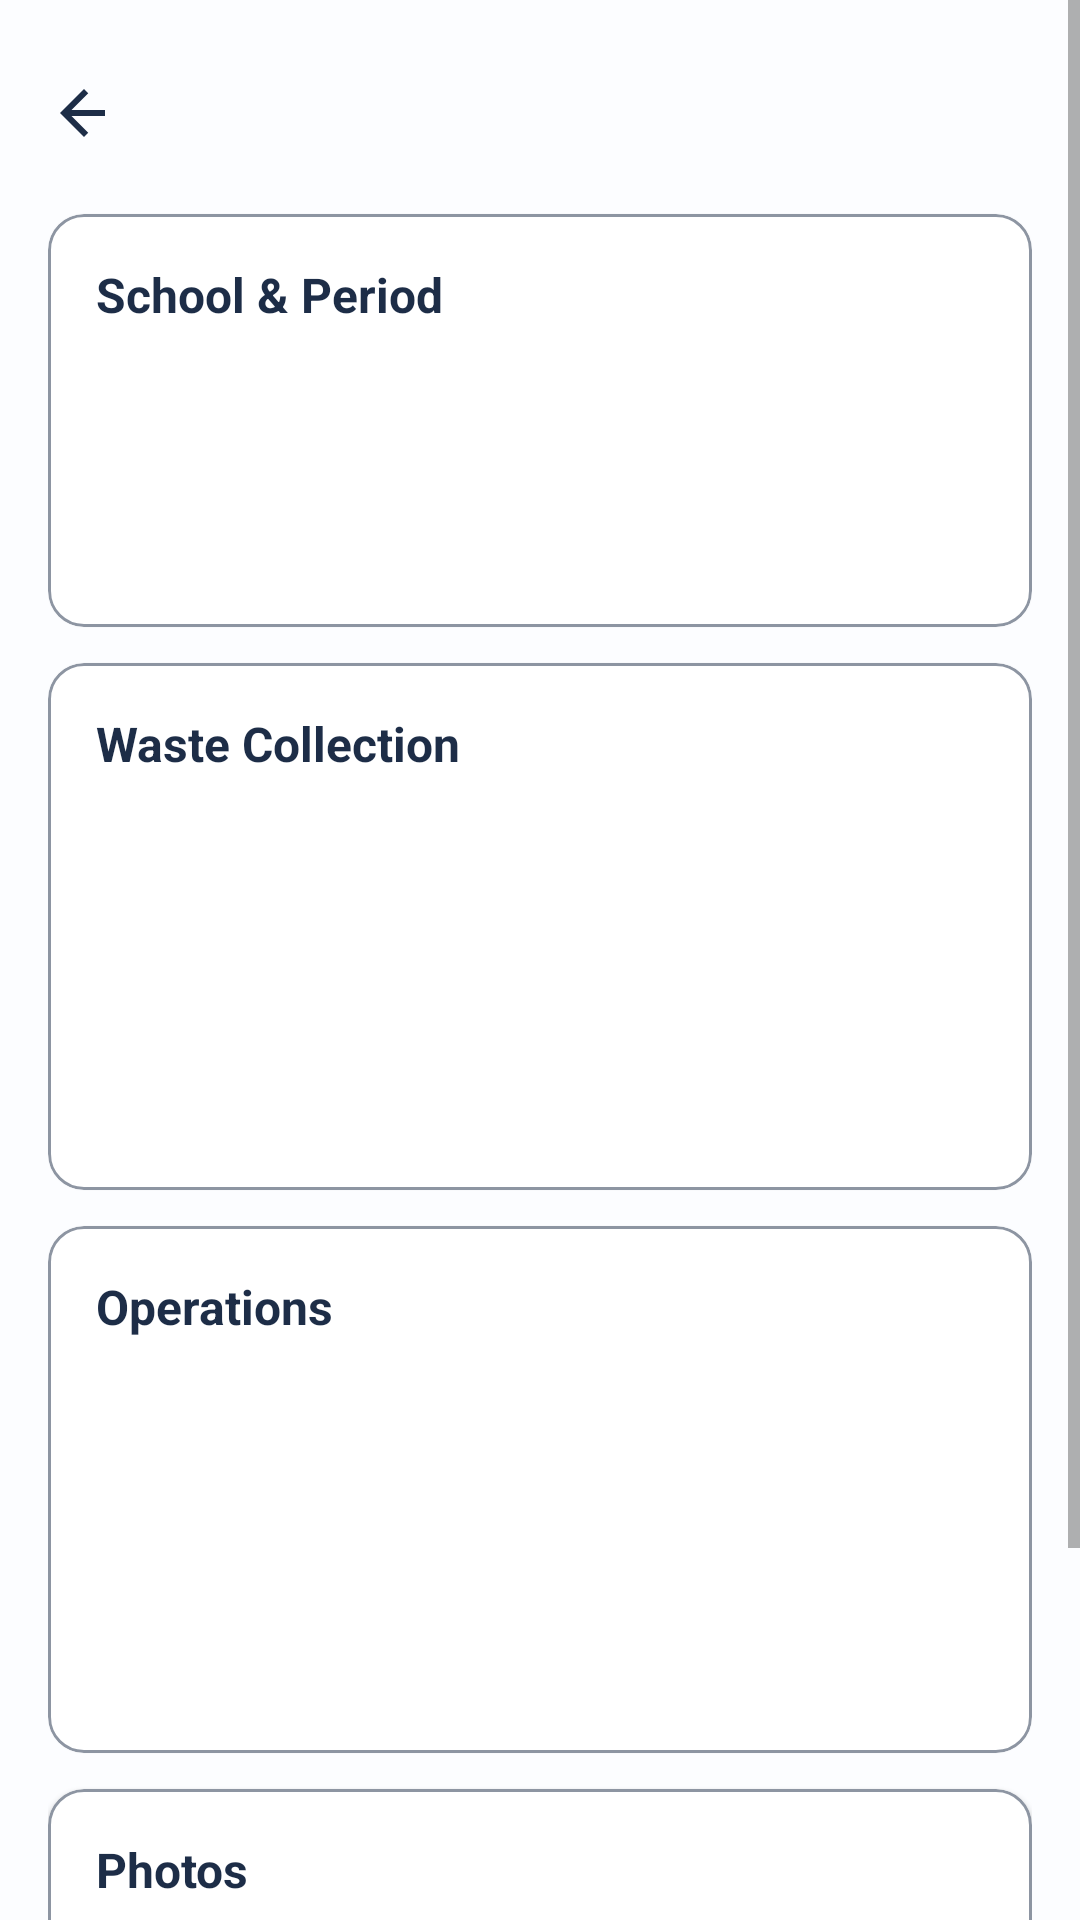

Icon bounding boxes for this 1080 x 1920 phone screenshot, format (x1, y1, x2, y2):
arrow back: (60, 89, 105, 137)
